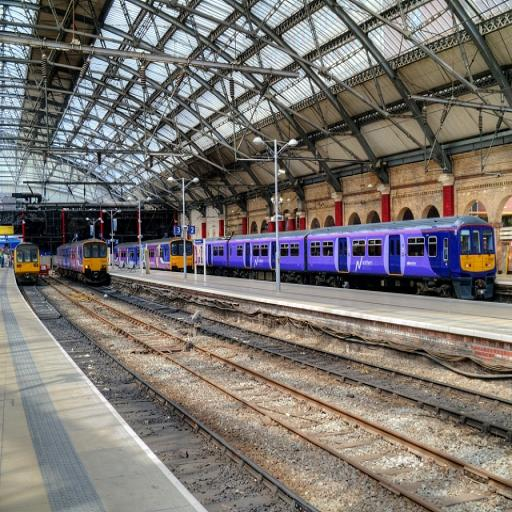platform_edge: (0, 292, 215, 512)
